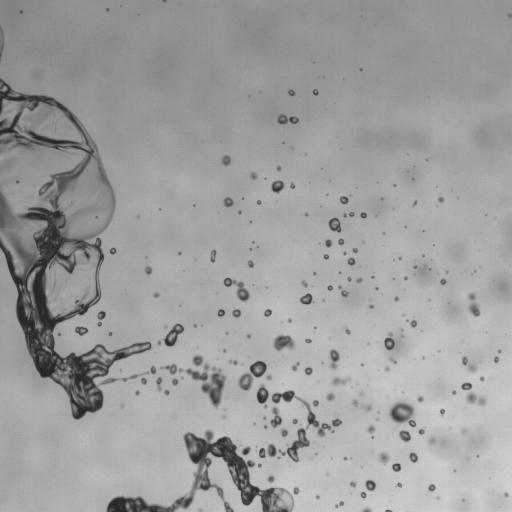droplet: (237, 360, 272, 391), (388, 401, 416, 427), (272, 334, 296, 351), (462, 356, 477, 373), (328, 217, 342, 233), (384, 332, 395, 350), (299, 292, 314, 305), (270, 180, 284, 193), (378, 451, 390, 465), (398, 430, 411, 442), (365, 479, 377, 491), (366, 424, 375, 439), (74, 326, 88, 335), (11, 83, 22, 94), (12, 145, 23, 156), (96, 146, 107, 157), (62, 160, 73, 171), (7, 166, 18, 177), (269, 170, 280, 181), (5, 195, 16, 206), (30, 196, 41, 207), (332, 205, 343, 216), (347, 265, 358, 276), (87, 305, 98, 316), (72, 314, 83, 325), (13, 325, 24, 336), (291, 332, 302, 343), (107, 340, 118, 351), (57, 346, 68, 357), (23, 355, 34, 366), (107, 365, 118, 376), (334, 366, 345, 377), (160, 370, 171, 381), (251, 376, 262, 387), (219, 387, 230, 398), (62, 402, 73, 413), (210, 405, 221, 416), (363, 413, 374, 424), (305, 426, 316, 437), (286, 431, 297, 442), (276, 439, 287, 450), (402, 441, 413, 452), (178, 447, 189, 458), (247, 450, 258, 461), (213, 456, 224, 467), (399, 456, 410, 467), (257, 479, 268, 490), (178, 485, 189, 496), (160, 496, 171, 507), (221, 155, 231, 166), (144, 263, 153, 275), (223, 197, 233, 207), (408, 452, 418, 462), (391, 462, 401, 472), (231, 308, 241, 317), (304, 366, 313, 376), (341, 325, 350, 334), (326, 392, 335, 401), (427, 436, 436, 445), (23, 86, 32, 95), (101, 160, 110, 169), (104, 168, 113, 177), (341, 203, 350, 212), (339, 217, 348, 226), (329, 231, 338, 240), (342, 241, 351, 250), (100, 243, 109, 252), (342, 281, 351, 290), (234, 299, 243, 308), (8, 308, 17, 317), (53, 322, 62, 331), (327, 368, 336, 377), (146, 373, 155, 382), (161, 379, 170, 388), (249, 384, 258, 393), (330, 384, 339, 393), (201, 392, 210, 401), (317, 394, 326, 403), (358, 396, 367, 405), (407, 397, 416, 406), (385, 399, 394, 408), (354, 406, 363, 415), (381, 408, 390, 417), (298, 418, 307, 427), (399, 421, 408, 430), (408, 427, 417, 436), (195, 429, 204, 438), (189, 462, 198, 471), (194, 488, 203, 497), (252, 495, 261, 504), (144, 496, 153, 505), (360, 498, 369, 507), (291, 361, 299, 371), (280, 428, 288, 438), (437, 192, 444, 203), (249, 171, 257, 180), (339, 196, 348, 204), (217, 308, 225, 317), (388, 356, 397, 364), (184, 505, 195, 511), (240, 505, 251, 511), (372, 505, 383, 511), (324, 239, 332, 247), (347, 257, 355, 265), (418, 426, 426, 434), (428, 483, 435, 492), (109, 247, 117, 254), (247, 260, 254, 268), (301, 279, 308, 287), (264, 309, 272, 316), (312, 399, 319, 407), (460, 427, 467, 435), (267, 475, 274, 483), (0, 151, 5, 162), (360, 490, 366, 499), (288, 89, 295, 96), (171, 378, 178, 385), (417, 395, 424, 402), (292, 417, 299, 424), (35, 89, 42, 96), (54, 94, 61, 101), (67, 104, 74, 111), (72, 110, 79, 117), (215, 156, 222, 163), (105, 172, 112, 179), (256, 172, 263, 179), (282, 183, 289, 190), (231, 195, 238, 202), (229, 204, 236, 211), (353, 212, 360, 219), (330, 238, 337, 245), (337, 244, 344, 251), (323, 246, 330, 253), (346, 250, 353, 257), (97, 271, 104, 278), (4, 272, 11, 279), (362, 275, 369, 282), (97, 277, 104, 284), (8, 280, 15, 287), (242, 282, 249, 289), (230, 283, 237, 290), (332, 287, 339, 294), (11, 290, 18, 297), (473, 297, 480, 304), (464, 298, 471, 305), (477, 304, 484, 311), (224, 309, 231, 316), (280, 329, 287, 336), (271, 331, 278, 338), (53, 345, 60, 352), (281, 345, 288, 352), (191, 349, 198, 356), (324, 356, 331, 363), (113, 359, 120, 366), (191, 364, 198, 371), (297, 364, 304, 371), (155, 369, 162, 376), (173, 371, 180, 378), (185, 374, 192, 381), (44, 376, 51, 383), (92, 376, 99, 383), (195, 379, 202, 386), (98, 384, 105, 391), (454, 384, 461, 391), (352, 385, 359, 392), (235, 386, 242, 393), (278, 386, 285, 393), (462, 388, 469, 395), (62, 393, 69, 400), (484, 393, 491, 400), (265, 397, 272, 404), (101, 398, 108, 405), (218, 399, 225, 406), (471, 401, 478, 408), (479, 404, 486, 411), (310, 406, 317, 413), (95, 408, 102, 415), (369, 409, 376, 416), (84, 410, 91, 417), (267, 412, 274, 419), (368, 418, 375, 425), (390, 419, 397, 426), (373, 421, 380, 428), (276, 423, 283, 430), (292, 423, 299, 430), (207, 424, 214, 431), (209, 436, 216, 443), (296, 446, 303, 453), (383, 446, 390, 453), (375, 447, 382, 454), (235, 448, 242, 455), (372, 453, 379, 460), (241, 454, 248, 461), (387, 458, 394, 465), (375, 460, 382, 467), (188, 475, 195, 482), (249, 478, 256, 485), (208, 486, 215, 493), (122, 491, 129, 498), (104, 496, 111, 503), (188, 501, 195, 508), (440, 408, 445, 417), (98, 506, 107, 511), (175, 506, 184, 511), (336, 506, 345, 511), (360, 212, 366, 219), (338, 238, 344, 245), (356, 277, 363, 283), (440, 278, 446, 285), (326, 285, 333, 291), (152, 292, 159, 298), (349, 481, 356, 487), (395, 481, 402, 487), (312, 89, 318, 95), (358, 390, 364, 396), (0, 250, 4, 259), (304, 338, 311, 343), (494, 356, 499, 363), (276, 165, 281, 171), (290, 182, 295, 188), (352, 248, 358, 253), (323, 254, 329, 259), (368, 304, 374, 309), (398, 327, 404, 332), (164, 389, 169, 395), (134, 390, 140, 395), (503, 492, 509, 497), (218, 507, 225, 511), (256, 200, 261, 205), (135, 214, 140, 219), (394, 296, 399, 301), (287, 318, 292, 323), (163, 324, 168, 329), (222, 348, 227, 353), (384, 366, 389, 371), (479, 376, 484, 381), (451, 390, 456, 395), (221, 414, 226, 419), (2, 30, 7, 35), (1, 49, 6, 54), (4, 78, 9, 83), (9, 83, 14, 88), (45, 92, 50, 97), (59, 99, 64, 104), (285, 113, 290, 118), (272, 117, 277, 122), (286, 120, 291, 125), (292, 122, 297, 127), (280, 123, 285, 128), (224, 150, 229, 155), (229, 154, 234, 159), (229, 160, 234, 165), (227, 163, 232, 168), (221, 164, 226, 169), (56, 168, 61, 173), (50, 169, 55, 174), (245, 171, 250, 176), (46, 176, 51, 181), (247, 177, 252, 182), (266, 184, 271, 189), (279, 188, 284, 193), (272, 191, 277, 196), (220, 194, 225, 199), (229, 194, 234, 199), (433, 194, 438, 199), (114, 195, 119, 200), (433, 198, 438, 203), (114, 199, 119, 204), (219, 201, 224, 206), (439, 201, 444, 206), (225, 206, 230, 211), (23, 208, 28, 213), (365, 210, 370, 215), (112, 211, 117, 216), (365, 214, 370, 219), (337, 215, 342, 220), (324, 217, 329, 222), (106, 224, 111, 229), (324, 224, 329, 229), (97, 233, 102, 238), (320, 240, 325, 245), (250, 243, 255, 248), (352, 243, 357, 248), (99, 244, 104, 249), (214, 255, 219, 260), (251, 258, 256, 263), (410, 260, 415, 265), (148, 262, 153, 267), (243, 262, 248, 267), (351, 263, 356, 268), (140, 268, 145, 273), (150, 270, 155, 275), (441, 273, 446, 278), (229, 274, 234, 279), (351, 276, 356, 281), (235, 277, 240, 282), (305, 278, 310, 283), (435, 280, 440, 285), (358, 281, 363, 286), (297, 282, 302, 287), (332, 285, 337, 290), (341, 285, 346, 290), (155, 288, 160, 293), (336, 288, 341, 293), (346, 293, 351, 298), (154, 296, 159, 301), (246, 297, 251, 302), (308, 302, 313, 307), (302, 303, 307, 308), (83, 311, 88, 316), (104, 312, 109, 317), (468, 312, 473, 317), (74, 313, 79, 318), (237, 315, 242, 320), (232, 316, 237, 321), (282, 317, 287, 322), (100, 318, 105, 323), (405, 321, 410, 326), (415, 322, 420, 327), (167, 325, 172, 330), (340, 329, 345, 334), (176, 333, 181, 338), (289, 333, 294, 338), (383, 333, 388, 338), (391, 335, 396, 340), (139, 337, 144, 342), (160, 340, 165, 345), (379, 340, 384, 345), (125, 341, 130, 346), (87, 345, 92, 350), (167, 345, 172, 350), (106, 346, 111, 351), (334, 346, 339, 351), (83, 347, 88, 352), (388, 348, 393, 353), (74, 351, 79, 356), (493, 351, 498, 356), (136, 352, 141, 357), (496, 352, 501, 357), (338, 353, 343, 358), (231, 355, 236, 360), (489, 355, 494, 360), (258, 356, 263, 361), (466, 356, 471, 361), (457, 357, 462, 362), (236, 358, 241, 363), (249, 359, 254, 364), (335, 359, 340, 364), (166, 360, 171, 365), (290, 360, 295, 365), (161, 361, 166, 366), (387, 361, 392, 366), (208, 362, 213, 367), (214, 362, 219, 367), (309, 363, 314, 368), (462, 364, 467, 369), (379, 366, 384, 371), (287, 367, 292, 372), (164, 368, 169, 373), (220, 369, 225, 374), (34, 370, 39, 375), (128, 370, 133, 375), (181, 370, 186, 375), (385, 370, 390, 375), (310, 371, 315, 376), (123, 372, 128, 377), (261, 372, 266, 377), (302, 373, 307, 378), (103, 374, 108, 379), (271, 374, 276, 379), (136, 375, 141, 380), (464, 377, 469, 382), (126, 378, 131, 383), (177, 379, 182, 384), (109, 381, 114, 386), (345, 381, 350, 386), (152, 382, 157, 387), (55, 383, 60, 388), (468, 387, 473, 392), (239, 388, 244, 393), (159, 390, 164, 395), (293, 390, 298, 395), (418, 391, 423, 396), (163, 394, 168, 399), (252, 395, 257, 400), (279, 397, 284, 402), (290, 397, 295, 402), (327, 399, 332, 404), (485, 400, 490, 405), (258, 402, 263, 407), (273, 402, 278, 407), (348, 402, 353, 407), (360, 408, 365, 413), (223, 410, 228, 415), (277, 411, 282, 416), (314, 415, 319, 420), (265, 420, 270, 425), (326, 420, 331, 425), (364, 422, 369, 427), (338, 423, 343, 428), (330, 424, 335, 429), (323, 428, 328, 433), (366, 432, 371, 437), (434, 435, 439, 440), (408, 438, 413, 443), (180, 439, 185, 444), (231, 439, 236, 444), (399, 439, 404, 444), (402, 440, 407, 445), (434, 440, 439, 445), (274, 444, 279, 449), (263, 445, 268, 450), (281, 446, 286, 451), (415, 451, 420, 456), (271, 455, 276, 460), (416, 457, 421, 462), (247, 466, 252, 471), (394, 470, 399, 475), (264, 472, 269, 477), (370, 476, 375, 481), (209, 478, 214, 483), (374, 484, 379, 489), (348, 485, 353, 490), (288, 488, 293, 493), (235, 489, 240, 494), (364, 489, 369, 494), (432, 489, 437, 494), (499, 489, 504, 494), (297, 490, 302, 495), (292, 493, 297, 498), (174, 494, 179, 499), (215, 495, 220, 500), (500, 495, 505, 500), (304, 212, 308, 217), (347, 276, 351, 281), (246, 334, 251, 338), (399, 334, 404, 338), (157, 340, 161, 345), (120, 403, 124, 408), (262, 415, 266, 420), (374, 417, 379, 421), (264, 424, 268, 429), (315, 494, 319, 499), (436, 495, 440, 500), (507, 13, 511, 17), (290, 146, 294, 150), (237, 210, 241, 214), (342, 251, 346, 255), (403, 276, 407, 280), (374, 286, 378, 290), (193, 323, 197, 327), (108, 331, 112, 335), (225, 331, 229, 335), (497, 349, 501, 353), (360, 362, 364, 366), (355, 381, 359, 385), (343, 456, 347, 460), (326, 471, 329, 476), (508, 8, 511, 13), (508, 491, 511, 496), (202, 508, 207, 511), (291, 508, 296, 511), (19, 10, 23, 13), (325, 193, 329, 196), (178, 251, 181, 255), (421, 254, 425, 257), (398, 256, 401, 260), (413, 265, 417, 268), (338, 270, 341, 274), (445, 270, 449, 273), (322, 298, 325, 302), (427, 298, 431, 301), (401, 313, 405, 316), (57, 332, 61, 335), (328, 336, 331, 340), (466, 457, 469, 461), (258, 463, 261, 467), (461, 498, 465, 501), (198, 508, 202, 511), (106, 8, 109, 11), (359, 68, 362, 71), (425, 158, 428, 161), (411, 177, 414, 180), (16, 180, 19, 183), (393, 184, 396, 187), (435, 204, 438, 207), (249, 220, 252, 223), (361, 240, 364, 243), (249, 248, 252, 251), (313, 272, 316, 275), (371, 275, 374, 278), (367, 342, 370, 345), (437, 349, 440, 352), (422, 356, 425, 359), (401, 390, 404, 393), (377, 410, 380, 413), (252, 422, 255, 425), (314, 452, 317, 455), (476, 454, 479, 457), (453, 469, 456, 472), (162, 1, 165, 4), (105, 4, 108, 7), (21, 7, 24, 10), (102, 7, 105, 10), (108, 7, 111, 10), (16, 9, 19, 12), (107, 10, 110, 13), (21, 12, 24, 15), (360, 65, 363, 68), (356, 68, 359, 71), (359, 70, 362, 73), (313, 85, 316, 88), (285, 88, 288, 91), (293, 89, 296, 92), (317, 90, 320, 93), (286, 93, 289, 96), (312, 94, 315, 97), (290, 95, 293, 98), (284, 140, 287, 143), (280, 143, 283, 146), (427, 158, 430, 161), (280, 166, 283, 169), (273, 167, 276, 170), (410, 174, 413, 177), (14, 177, 17, 180), (18, 178, 21, 181), (12, 180, 15, 183), (393, 180, 396, 183), (17, 182, 20, 185), (293, 182, 296, 185), (389, 183, 392, 186), (294, 185, 297, 188), (393, 186, 396, 189), (291, 188, 294, 191), (323, 190, 326, 193), (35, 191, 38, 194), (439, 193, 442, 196), (345, 194, 348, 197), (324, 195, 327, 198), (257, 196, 260, 199), (336, 196, 339, 199), (240, 199, 243, 202), (379, 199, 382, 202), (192, 200, 195, 203), (410, 200, 413, 203), (253, 201, 256, 204), (260, 201, 263, 204), (416, 201, 419, 204), (189, 203, 192, 206), (195, 203, 198, 206), (158, 204, 161, 207), (192, 206, 195, 209), (155, 207, 158, 210), (159, 209, 162, 212), (240, 209, 243, 212), (305, 209, 308, 212), (361, 209, 364, 212), (301, 212, 304, 215), (238, 213, 241, 216), (346, 214, 349, 217), (303, 215, 306, 218), (306, 215, 309, 218), (328, 216, 331, 219), (248, 217, 251, 220), (360, 217, 363, 220), (251, 219, 254, 222), (247, 222, 250, 225), (339, 224, 342, 227), (406, 224, 409, 227), (402, 227, 405, 230), (381, 228, 384, 231), (422, 231, 425, 234), (381, 234, 384, 237), (251, 237, 254, 240), (343, 239, 346, 242), (341, 243, 344, 246), (429, 243, 432, 246), (434, 243, 437, 246), (258, 244, 261, 247), (256, 247, 259, 250), (356, 247, 359, 250), (177, 248, 180, 251), (246, 248, 249, 251), (174, 251, 177, 254), (419, 251, 422, 254), (113, 252, 116, 255), (180, 252, 183, 255), (424, 253, 427, 256), (320, 254, 323, 257), (328, 255, 331, 258), (422, 256, 425, 259), (207, 257, 210, 260), (321, 257, 324, 260), (395, 257, 398, 260), (354, 258, 357, 261), (389, 258, 392, 261), (399, 259, 402, 262), (344, 260, 347, 263), (415, 262, 418, 265), (346, 263, 349, 266), (252, 264, 255, 267), (427, 264, 430, 267), (444, 266, 447, 269), (472, 266, 475, 269), (249, 267, 252, 270), (415, 267, 418, 270), (312, 268, 315, 271), (470, 269, 473, 272), (309, 271, 312, 274), (335, 271, 338, 274), (370, 272, 373, 275), (472, 272, 475, 275), (346, 273, 349, 276), (402, 273, 405, 276), (225, 274, 228, 277), (313, 274, 316, 277), (394, 276, 397, 279), (400, 276, 403, 279), (344, 278, 347, 281), (371, 278, 374, 281), (392, 279, 395, 282), (404, 279, 407, 282), (220, 280, 223, 283), (326, 282, 329, 285), (444, 282, 447, 285), (375, 283, 378, 286), (222, 284, 225, 287), (377, 287, 380, 290), (326, 289, 329, 292), (330, 289, 333, 292), (374, 289, 377, 292), (307, 290, 310, 293), (302, 292, 305, 295), (392, 294, 395, 297), (340, 295, 343, 298), (397, 295, 400, 298), (311, 297, 314, 300), (98, 298, 101, 301), (324, 298, 327, 301), (391, 298, 394, 301), (395, 300, 398, 303), (321, 301, 324, 304), (368, 301, 371, 304), (373, 304, 376, 307), (217, 306, 220, 309), (221, 306, 224, 309), (233, 306, 236, 309), (264, 306, 267, 309), (268, 306, 271, 309), (366, 306, 369, 309), (371, 307, 374, 310), (102, 308, 105, 311), (214, 310, 217, 313), (270, 312, 273, 315), (220, 315, 223, 318), (263, 315, 266, 318), (267, 315, 270, 318), (403, 316, 406, 319), (413, 317, 416, 320), (291, 318, 294, 321), (176, 320, 179, 323), (179, 321, 182, 324), (190, 322, 193, 325), (287, 322, 290, 325), (94, 323, 97, 326), (196, 323, 199, 326), (313, 323, 316, 326), (82, 324, 85, 327), (86, 326, 89, 329), (310, 326, 313, 329), (347, 326, 350, 329), (225, 328, 228, 331), (105, 331, 108, 334), (222, 331, 225, 334), (248, 331, 251, 334), (401, 331, 404, 334), (75, 332, 78, 335), (111, 332, 114, 335), (82, 333, 85, 336), (108, 335, 111, 338), (243, 335, 246, 338), (250, 335, 253, 338), (305, 335, 308, 338), (309, 336, 312, 339), (307, 342, 310, 345), (150, 344, 153, 347), (393, 344, 396, 347), (223, 345, 226, 348), (497, 346, 500, 349), (145, 349, 148, 352), (219, 349, 222, 352), (422, 352, 425, 355), (418, 355, 421, 358), (393, 357, 396, 360), (423, 358, 426, 361), (362, 360, 365, 363), (497, 360, 500, 363), (357, 361, 360, 364), (230, 362, 233, 365), (363, 363, 366, 366), (304, 364, 307, 367), (359, 365, 362, 368), (311, 367, 314, 370), (147, 368, 150, 371), (483, 376, 486, 379), (469, 380, 472, 383), (133, 388, 136, 391), (449, 389, 452, 392), (168, 391, 171, 394), (132, 392, 135, 395), (138, 392, 141, 395), (450, 393, 453, 396), (317, 403, 320, 406), (438, 406, 441, 409), (437, 411, 440, 414), (443, 411, 446, 414), (259, 415, 262, 418), (292, 415, 295, 418), (332, 416, 335, 419), (339, 417, 342, 420), (251, 419, 254, 422), (414, 419, 417, 422), (252, 424, 255, 427), (260, 424, 263, 427), (421, 433, 424, 436), (371, 438, 374, 441), (256, 447, 259, 450), (317, 452, 320, 455), (342, 453, 345, 456), (472, 454, 475, 457), (478, 454, 481, 457), (313, 455, 316, 458), (346, 455, 349, 458), (289, 458, 292, 461), (411, 461, 414, 464), (254, 462, 257, 465), (399, 463, 402, 466), (452, 465, 455, 468), (455, 467, 458, 470), (451, 471, 454, 474), (352, 479, 355, 482), (399, 480, 402, 483), (393, 482, 396, 485), (427, 482, 430, 485), (217, 483, 220, 486), (434, 483, 437, 486), (401, 484, 404, 487), (396, 486, 399, 489), (425, 487, 428, 490), (434, 487, 437, 490), (317, 492, 320, 495), (357, 493, 360, 496), (312, 494, 315, 497), (319, 495, 322, 498), (460, 495, 463, 498), (439, 496, 442, 499), (360, 497, 363, 500), (363, 497, 366, 500), (464, 497, 467, 500), (315, 498, 318, 501), (340, 498, 343, 501), (436, 499, 439, 502), (459, 500, 462, 503), (343, 501, 346, 504), (337, 505, 340, 508), (385, 506, 388, 509), (162, 0, 166, 2), (282, 141, 284, 144), (304, 153, 307, 155), (242, 196, 244, 199), (380, 197, 383, 199), (158, 208, 161, 210), (374, 215, 377, 217), (404, 225, 406, 228), (382, 232, 385, 234), (251, 241, 254, 243), (318, 242, 320, 245), (145, 256, 148, 258), (194, 258, 196, 261), (428, 268, 431, 270), (473, 270, 476, 272), (392, 277, 395, 279), (265, 286, 268, 288), (280, 321, 283, 323), (240, 363, 243, 365), (222, 408, 225, 410), (350, 456, 352, 459), (360, 466, 363, 468), (509, 16, 511, 19), (264, 177, 266, 179), (349, 194, 351, 196), (193, 204, 195, 206), (422, 230, 424, 232), (413, 273, 415, 275), (369, 298, 371, 300), (448, 302, 450, 304), (179, 304, 181, 306), (321, 362, 323, 364), (449, 426, 451, 428), (330, 457, 332, 459), (0, 178, 1, 181), (320, 205, 321, 207), (433, 244, 434, 246), (393, 259, 394, 261), (252, 284, 254, 285), (120, 369, 121, 371), (421, 330, 422, 331)
ligament: (158, 354, 226, 408), (223, 276, 250, 303), (461, 382, 487, 406), (162, 323, 184, 346), (0, 156, 17, 177), (256, 383, 269, 409), (467, 292, 480, 317), (270, 406, 282, 428), (352, 399, 372, 412), (328, 348, 339, 370), (330, 375, 351, 386), (277, 114, 298, 124), (0, 25, 4, 62), (337, 285, 349, 297), (97, 310, 105, 326), (155, 376, 162, 392), (406, 319, 417, 328), (210, 249, 216, 262), (342, 212, 354, 218), (228, 358, 238, 365), (334, 501, 344, 508), (360, 507, 373, 511), (412, 200, 417, 207), (313, 326, 316, 332), (384, 509, 393, 511), (216, 357, 218, 359)
